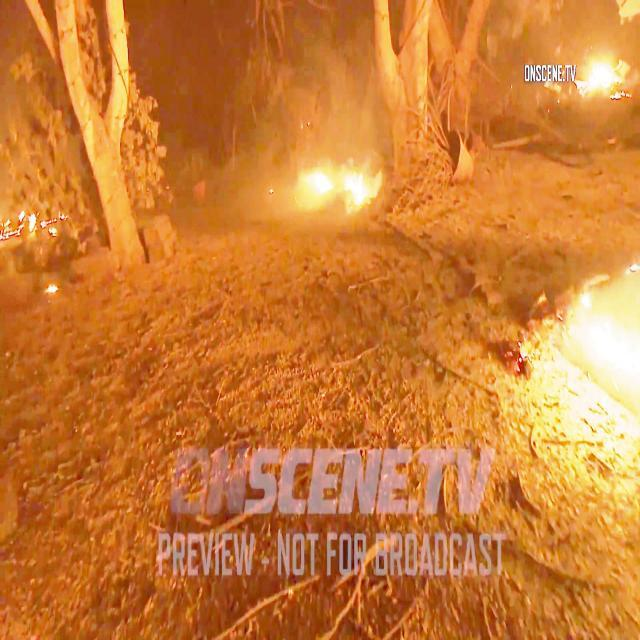Fire: (587, 292, 640, 382), (590, 55, 620, 94), (319, 178, 366, 202)
